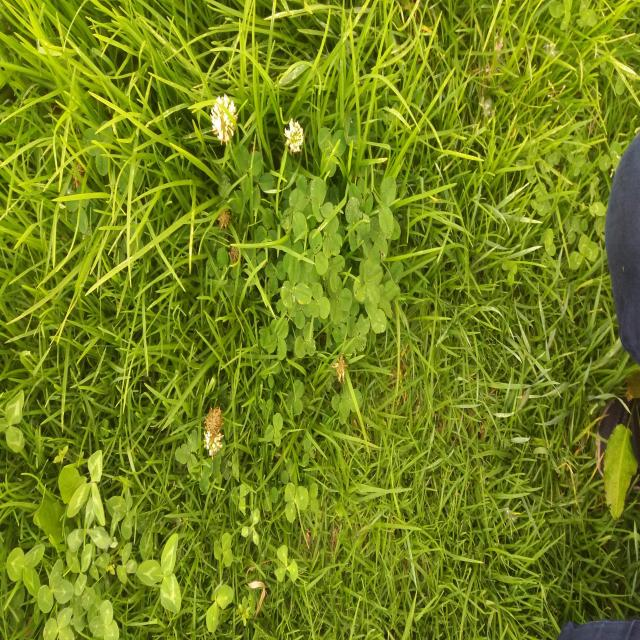Four Leaf Clover: (353, 259, 383, 304)
